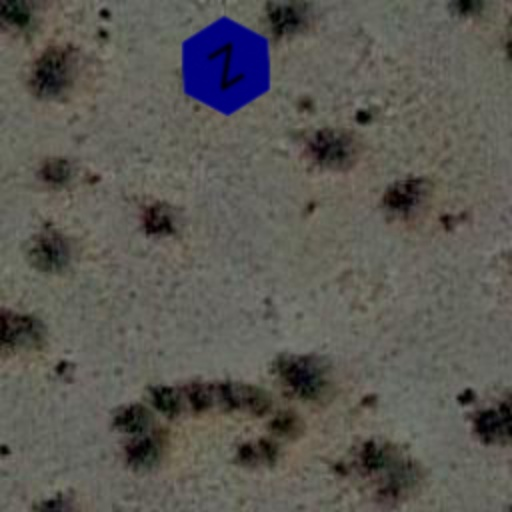hexagon: (156, 0, 296, 138)
